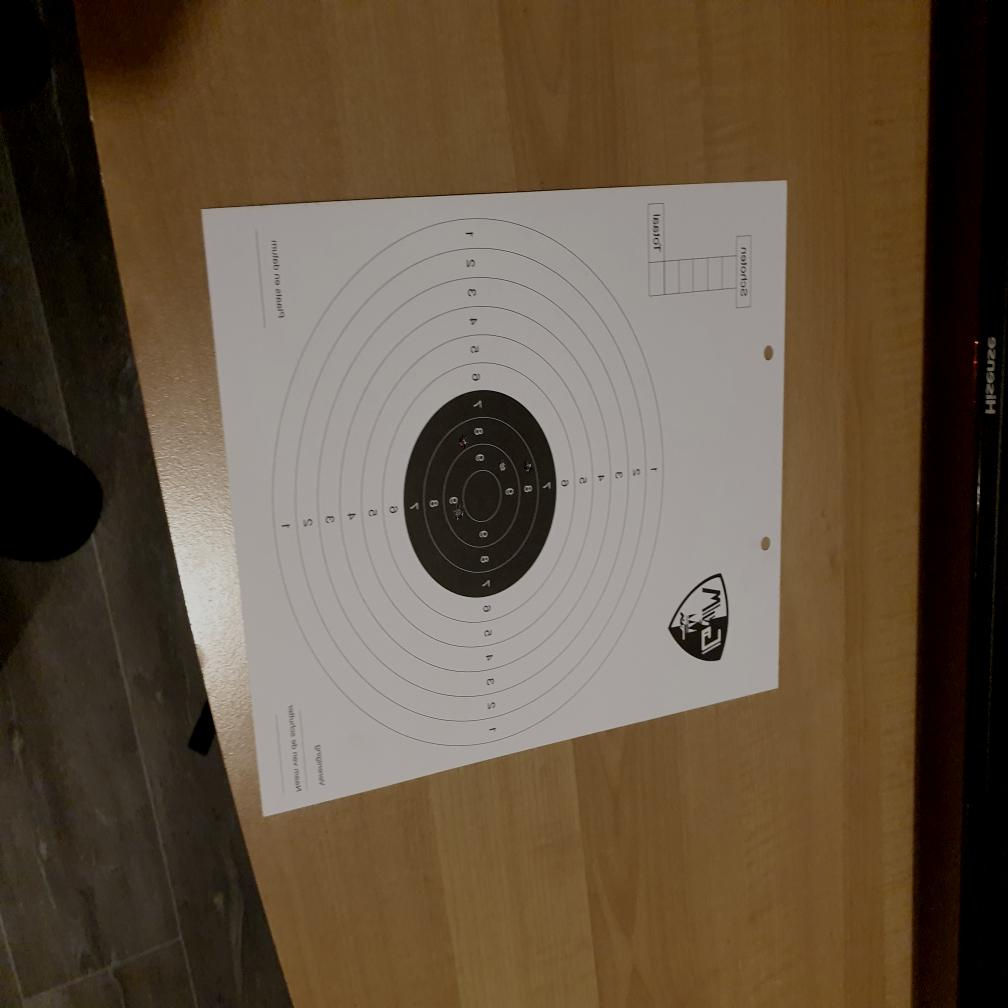8: (459, 434, 469, 450), (523, 461, 534, 474)
9: (453, 503, 465, 521), (498, 459, 508, 472)
Target: (271, 218, 665, 749)
black_contour: (404, 388, 558, 599)
